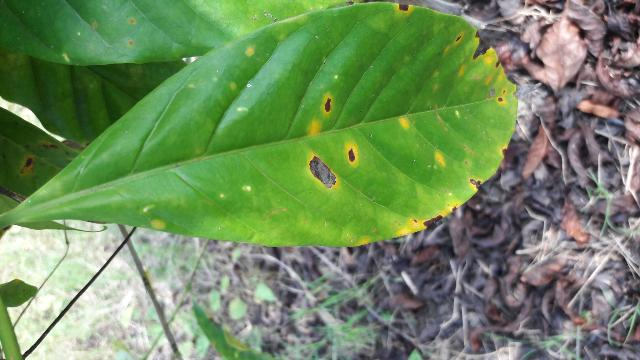rust_level_2: (0, 0, 515, 249)
